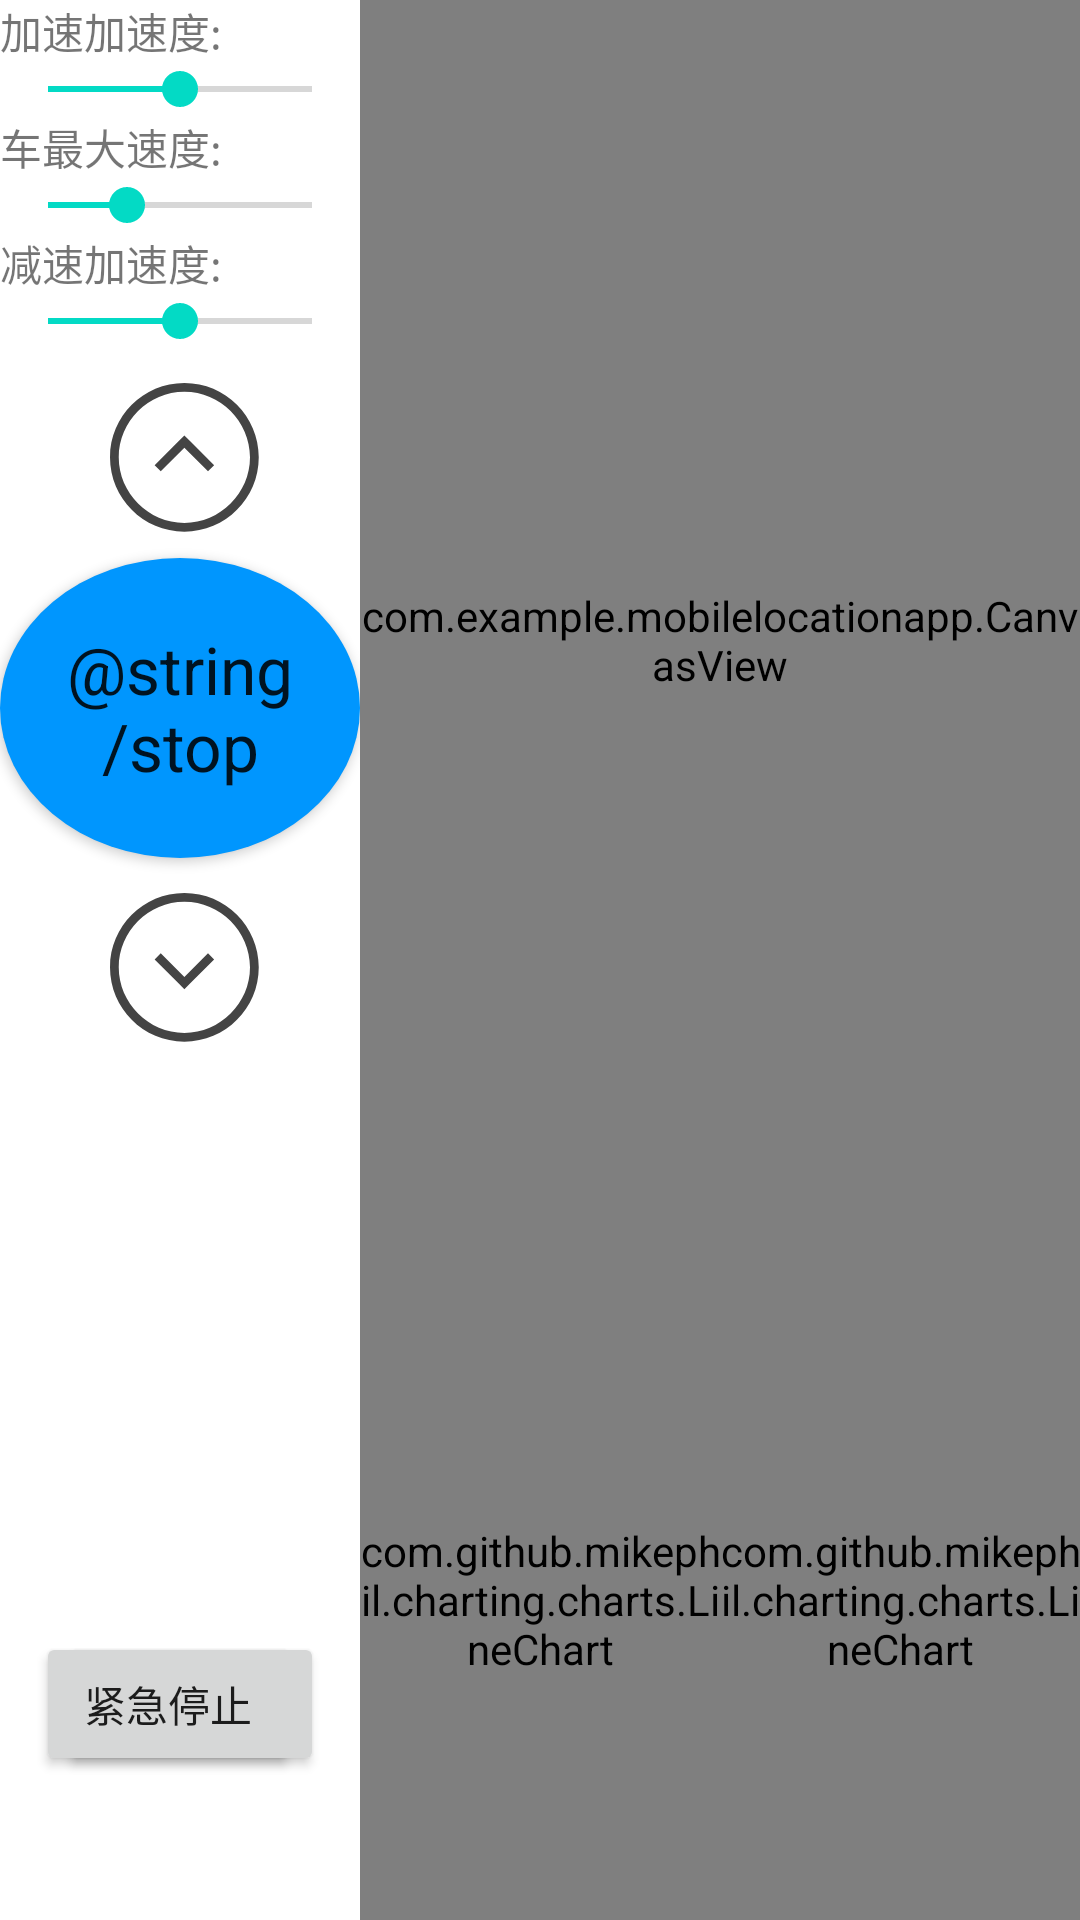

Icon click points for this 1080 x 1920 phone screenshot, format (x=x, y=y):
down: (x=184, y=967)
